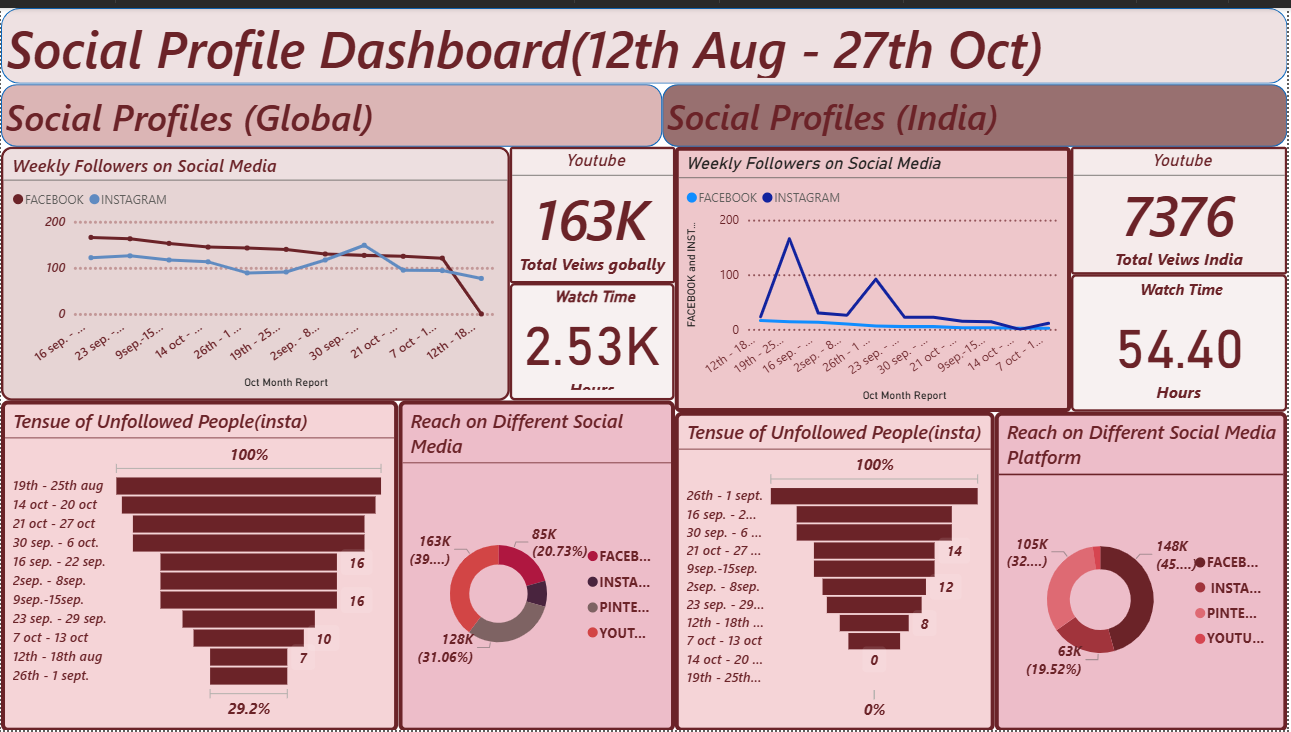

What the dashboard file says about the page in this screenshot:
{"tool":"powerbi","page":{"name":"Page 1","canvas":[1280,720],"ordinal":0},"visuals":[{"type":"shape","box":[0,0,1280.3,75.5],"z":0},{"type":"shape","box":[0,75.9,658.1,62.2],"z":1000},{"type":"shape","box":[658.1,75.9,622,62.2],"z":2000},{"type":"lineChart","title":"Weekly Followers on Social Media","fields":{"Category":["Follower List.Oct Month Report"],"Y":["Sum(Follower List.FACEBOOK)","Sum(Follower List.INSTAGRAM)"]},"box":[0,138.6,506.3,252.5],"z":3000},{"type":"card","title":"Youtube","fields":{"Values":["Sum(Youtube Veiws and Watch Time.Veiws gobal)"]},"box":[506.3,138.6,164.7,135.8],"z":4000},{"type":"card","title":"Watch Time","fields":{"Values":["Sum(Youtube Veiws and Watch Time.Watch Time Gobal)"]},"box":[506.3,273.7,164.2,116.9],"z":5000},{"type":"funnel","title":"Tensue of Unfollowed People(insta)","fields":{"Category":["Unfollowers of Instagram.Dates"],"Y":["Sum(Unfollowers of Instagram.INSTA GLOBAL)"]},"box":[0,391.1,395.2,329.3],"z":6000},{"type":"donutChart","title":"Reach on Different Social Media","fields":{"Y":["Sum(Reach on Different Social Media.FACEBOOK)","Sum(Reach on Different Social Media.INSTAGRAM)","Sum(Reach on Different Social Media.PINTEREST)","Sum(Reach on Different Social Media.YOUTUBE)"]},"box":[395.6,390.6,274.9,329.6],"z":7000},{"type":"lineChart","title":"Weekly Followers on Social Media","fields":{"Y":["Sum(Follower List INDIA.FACEBOOK)","Sum(Follower List INDIA.INSTAGRAM)"],"Category":["Follower List INDIA.Oct Month Report"]},"box":[670.5,138.1,394.3,263.7],"z":8000},{"type":"card","title":"Youtube","fields":{"Values":["Sum(Youtube Veiws and Watch Time.Veiws India)"]},"box":[1064.8,138.1,215.2,126.9],"z":9000},{"type":"card","title":"Watch Time","fields":{"Values":["Sum(Youtube Veiws and Watch Time.Watch Time india)"]},"box":[1064.8,265,215.2,136.8],"z":10000},{"type":"funnel","title":"Tensue of Unfollowed People(insta)","fields":{"Category":["Unfollowers of Instagram.Dates"],"Y":["Sum(Unfollowers of Instagram.INSTA INDIA)"]},"box":[670.5,401.8,318.5,318.5],"z":11000},{"type":"donutChart","title":"Reach on Different Social Media Platform","fields":{"Y":["Sum(Reach on Different Social Media.FACEBOOK INDIA)","Sum(Reach on Different Social Media.INSTAGRAM INDIA)","Sum(Reach on Different Social Media.PINTEREST INDIA)","Sum(Reach on Different Social Media.YOUTUBE INDIA)"]},"box":[988.9,401.8,291.1,318.5],"z":12000}]}

Visuals, with their boxes in screenshot pixels (x1, y1, x2, y2), scaled from the page's 1280x720 canvas onto the 1291x732 screenshot:
shape: <box>0,0,1290,77</box>
shape: <box>0,77,664,140</box>
shape: <box>664,77,1290,140</box>
"Weekly Followers on Social Media" lineChart: <box>0,141,511,398</box>
"Youtube" card: <box>511,141,677,279</box>
"Watch Time" card: <box>511,278,676,397</box>
"Tensue of Unfollowed People(insta)" funnel: <box>0,398,399,731</box>
"Reach on Different Social Media" donutChart: <box>399,397,676,731</box>
"Weekly Followers on Social Media" lineChart: <box>676,140,1074,408</box>
"Youtube" card: <box>1074,140,1290,269</box>
"Watch Time" card: <box>1074,269,1290,408</box>
"Tensue of Unfollowed People(insta)" funnel: <box>676,408,997,731</box>
"Reach on Different Social Media Platform" donutChart: <box>997,408,1290,731</box>
